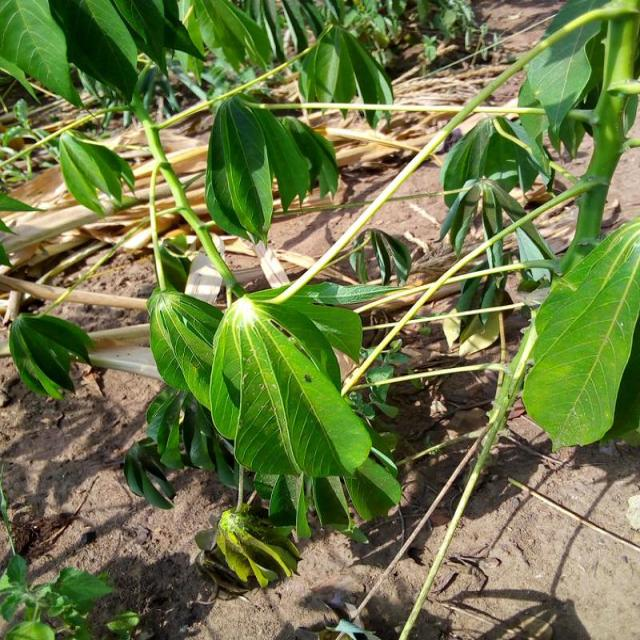cassava leaf: (207, 291, 372, 479), (521, 217, 638, 451), (203, 92, 311, 245), (8, 310, 94, 401)
